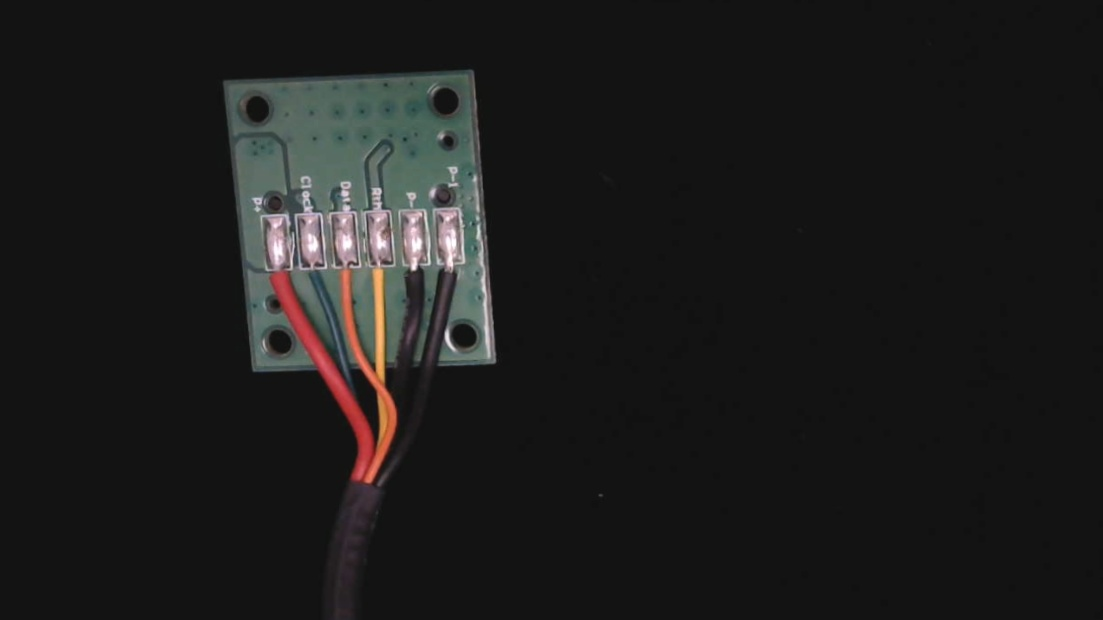Black: (394, 257, 421, 314)
Black1: (427, 255, 455, 310)
Green: (293, 259, 322, 307)
Orange: (327, 259, 353, 299)
Red: (262, 263, 290, 314)
Yellow: (356, 257, 388, 310)
